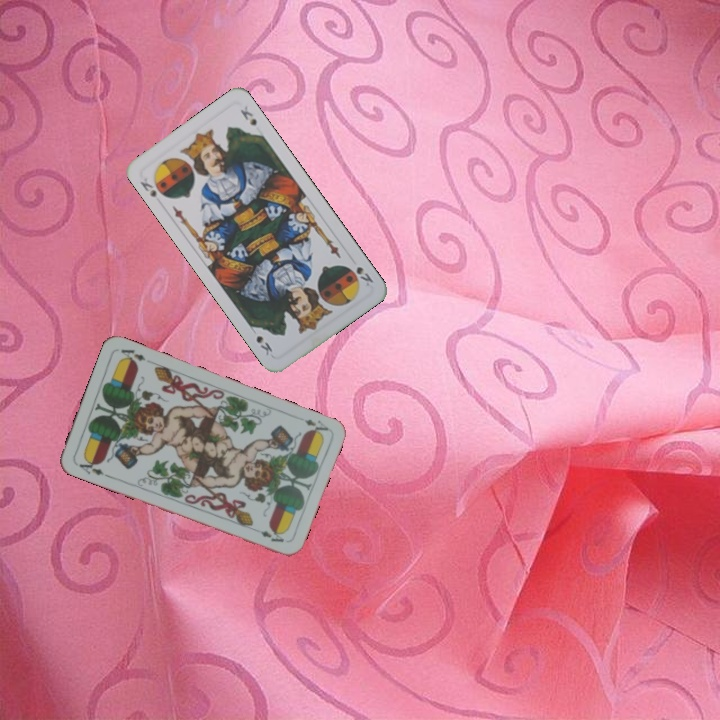EA: (75, 455, 111, 480), (300, 415, 331, 438)
SK: (136, 173, 170, 201), (352, 262, 376, 289)
